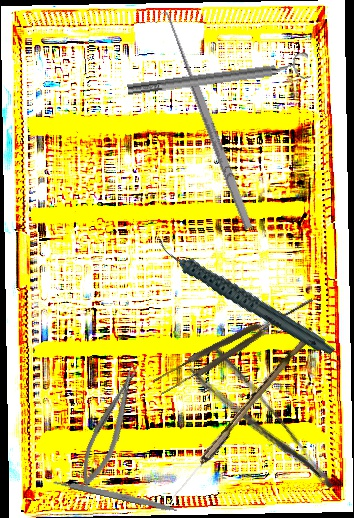Dressing Forceps: (186, 342, 337, 511)
Fixation Ring: (125, 50, 312, 104)
Handpiece: (155, 206, 336, 388)
Hook Surgical: (152, 8, 256, 234)
Needle Holder: (68, 361, 151, 496)
Scalpel Handle: (52, 476, 179, 514)
Surgical Spoon: (162, 326, 315, 511)
Tissue Forceps: (151, 291, 319, 397)
